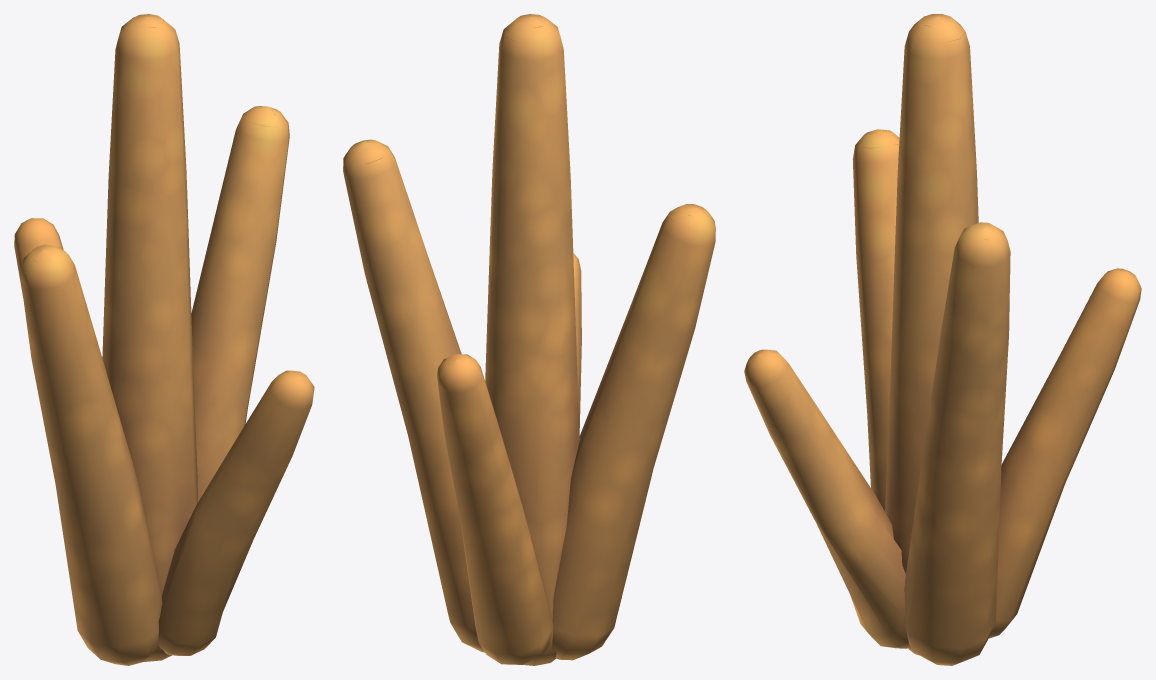
Rendered from WM_CoralBranch_C.fbx.
The picture shows the model from 3 angles, left to right: view 1: azimuth 30°, elevation 25°; view 2: azimuth 150°, elevation 25°; view 3: azimuth 270°, elevation 25°; orthographic projection.
Visible parts, largest first — view 1: WM_CoralBranch_C_LOD0; view 2: WM_CoralBranch_C_LOD0; view 3: WM_CoralBranch_C_LOD0.
Boxes of the visible parts, x1=… form: WM_CoralBranch_C_LOD0: x1=14, y1=14, x2=314, y2=665; WM_CoralBranch_C_LOD0: x1=343, y1=14, x2=715, y2=665; WM_CoralBranch_C_LOD0: x1=744, y1=14, x2=1141, y2=665.
Size of what is drawn, in the model's own units: 0.5365 by 1.05 by 0.5963.
